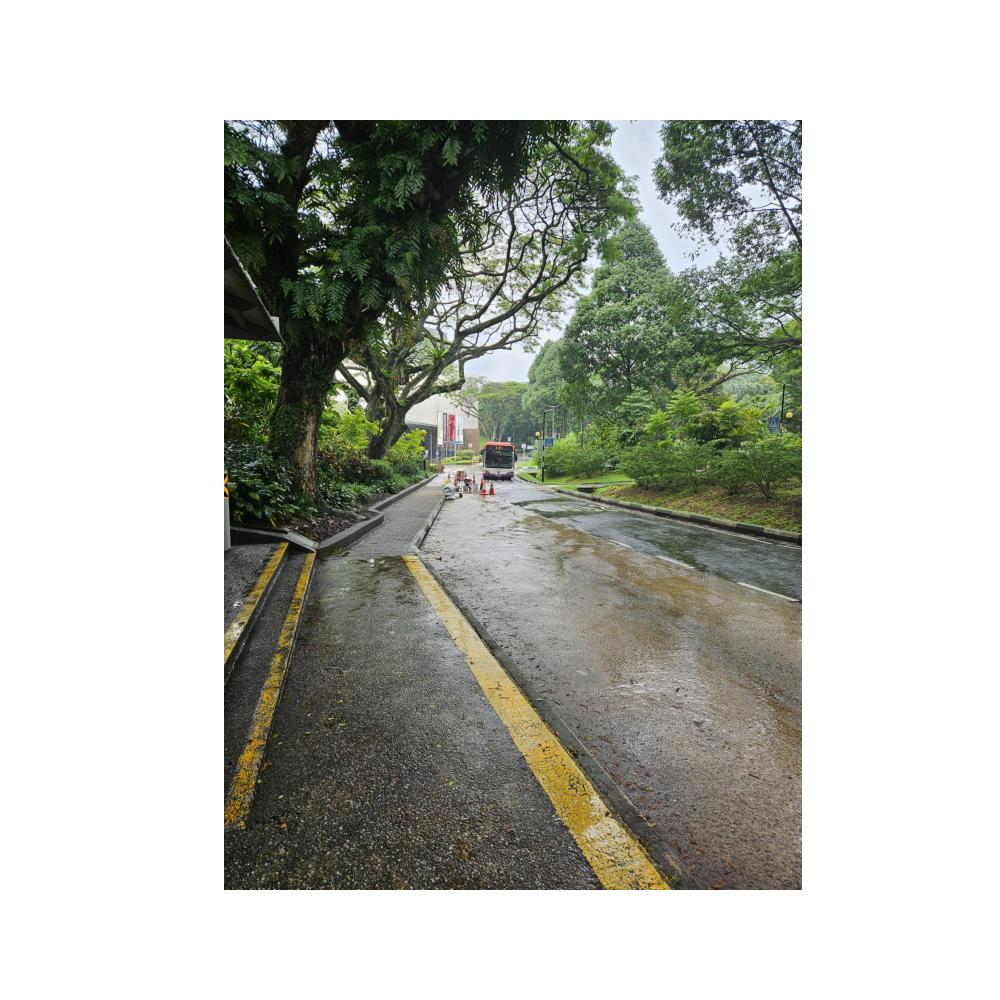bus: (481, 439, 522, 484)
